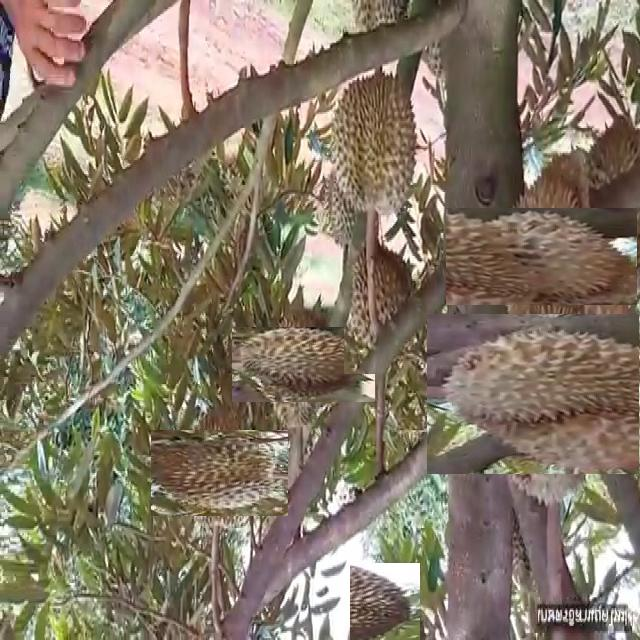durian: (450, 291, 640, 498), (470, 184, 614, 329), (327, 68, 423, 230), (163, 417, 275, 529), (249, 310, 359, 419), (344, 242, 421, 374), (346, 567, 424, 640)
